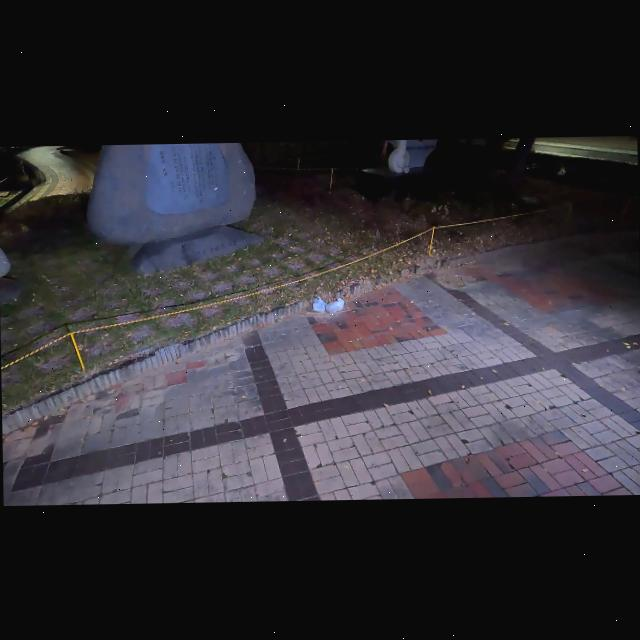trash: (324, 296, 345, 314), (311, 294, 326, 314)
